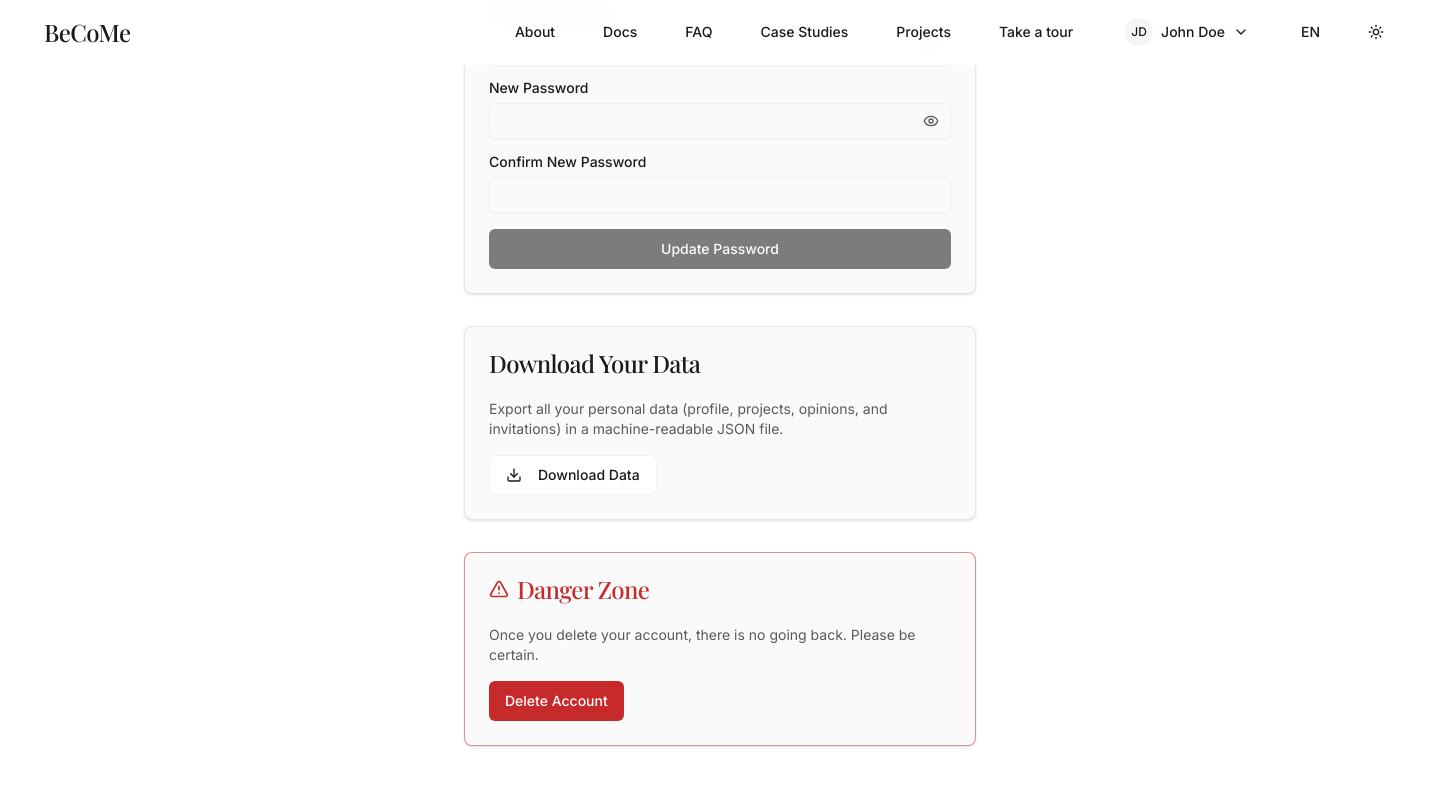
Test: Profile - Delete Account › opens delete confirmation modal
The image size is (1440, 810).
(page scrolled)
Click the button "Delete Account" at (556, 701), box x1=489 y1=681 x2=624 y2=721
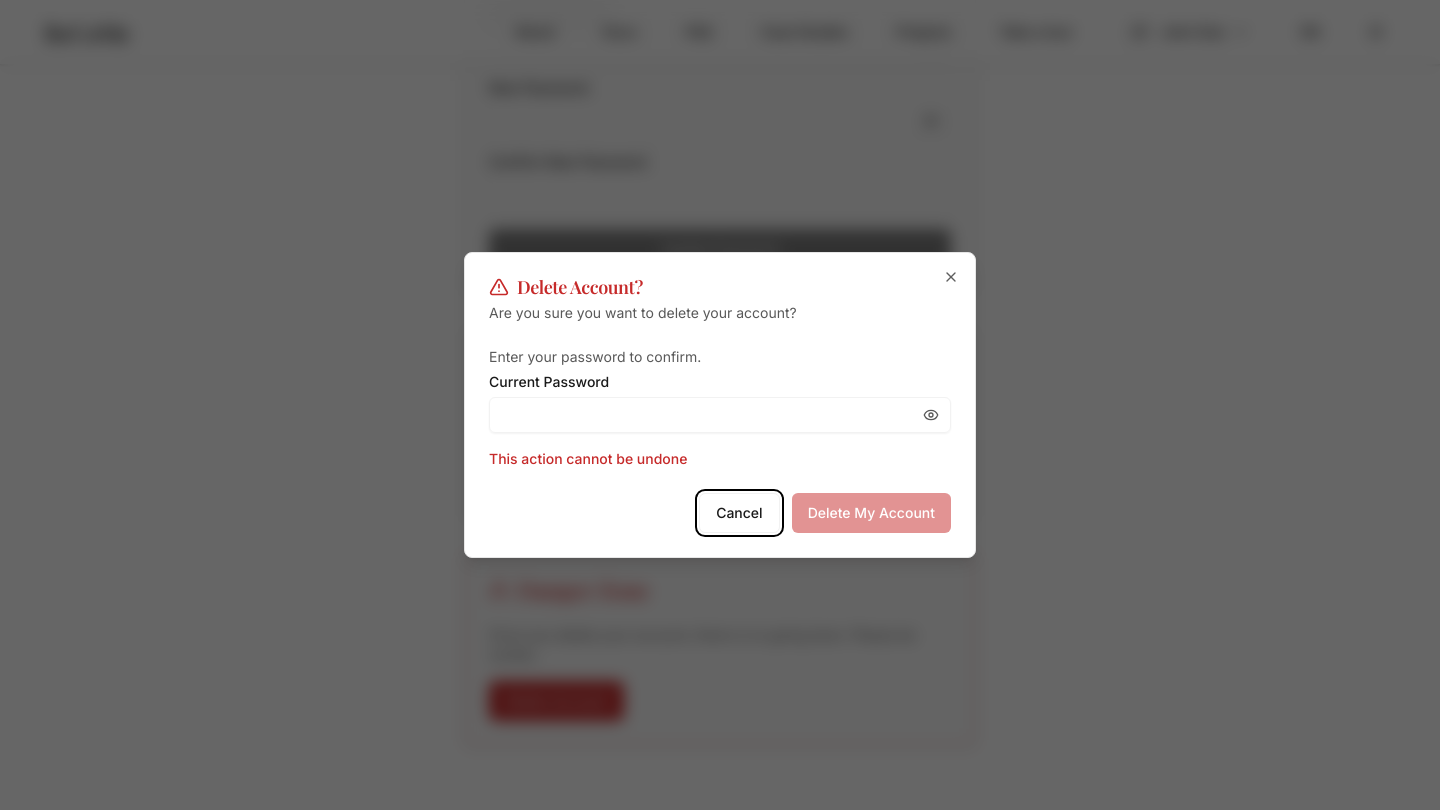
Expected: the heading "Delete Account?" is shown, x1=489 y1=275 x2=643 y2=299
